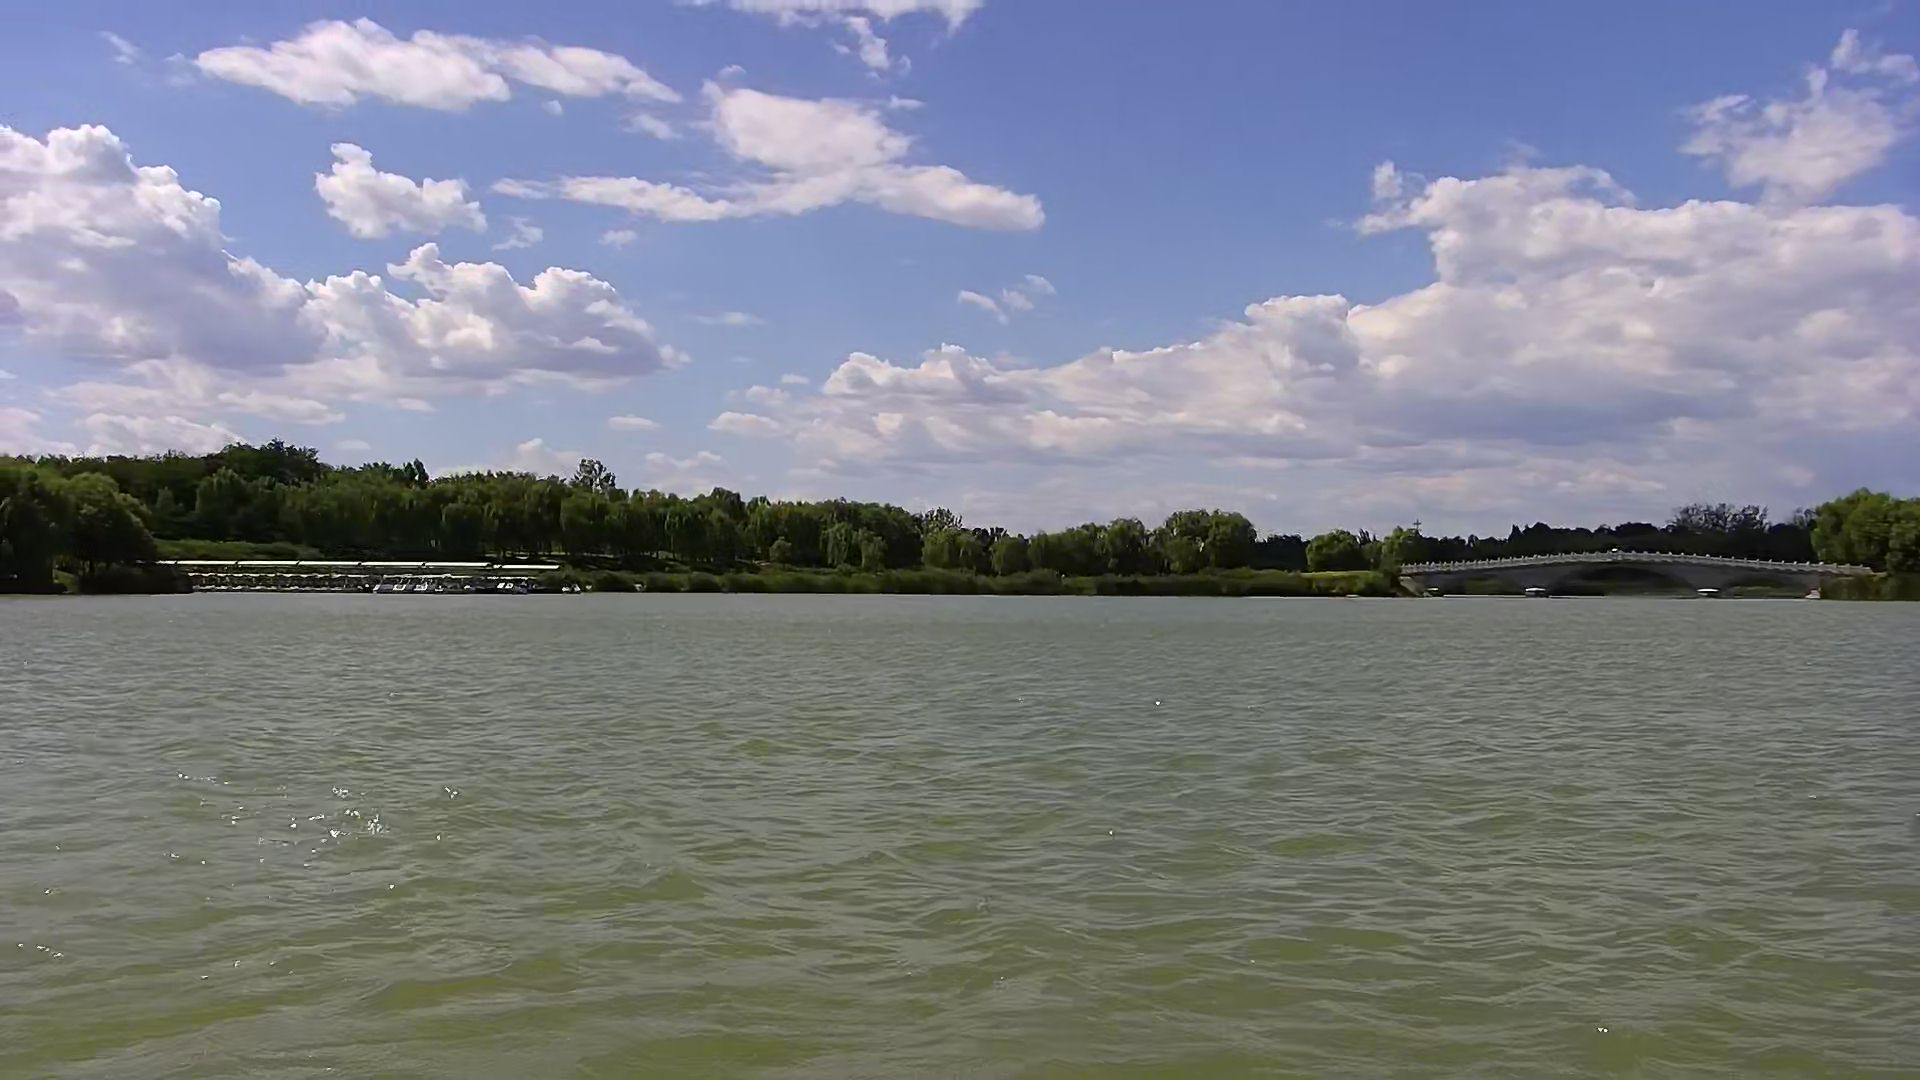bridge: (1403, 555, 1887, 611)
harbor: (164, 563, 556, 597)
